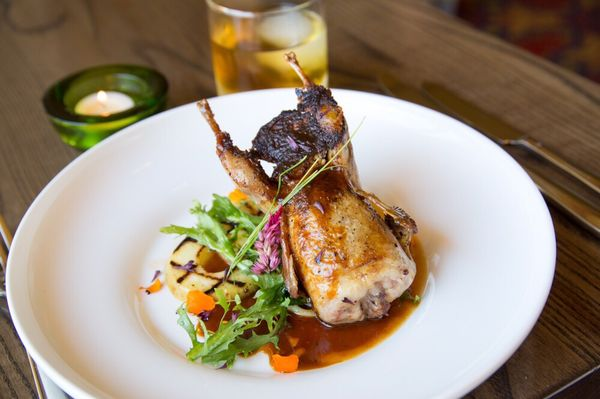pizza: (204, 1, 330, 99)
sushi: (7, 89, 512, 395), (41, 64, 169, 152)
